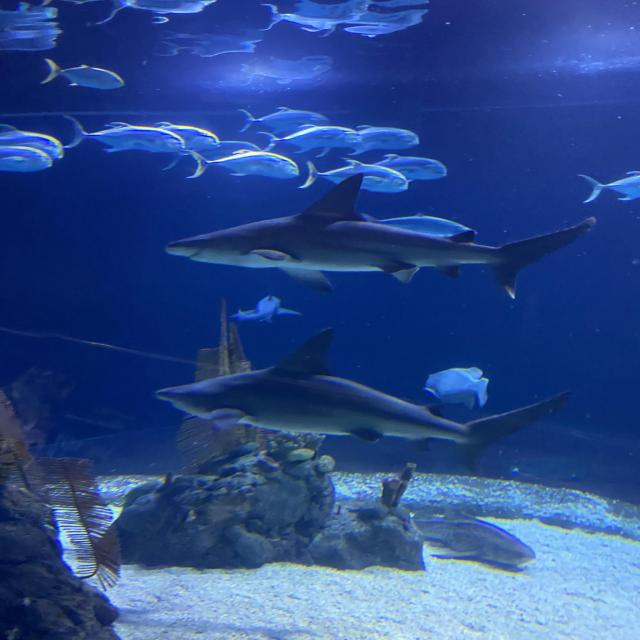fish: (408, 506, 536, 569), (62, 114, 184, 154), (298, 158, 408, 194), (182, 148, 299, 180), (206, 192, 284, 236), (258, 124, 358, 158), (422, 367, 488, 411), (235, 108, 330, 134), (380, 212, 478, 236), (347, 124, 418, 156), (0, 124, 63, 160), (153, 121, 219, 154), (41, 64, 124, 89), (371, 155, 447, 182), (578, 171, 640, 204), (0, 145, 52, 172)
shark: (155, 326, 572, 477), (163, 171, 595, 302), (231, 287, 303, 326)
